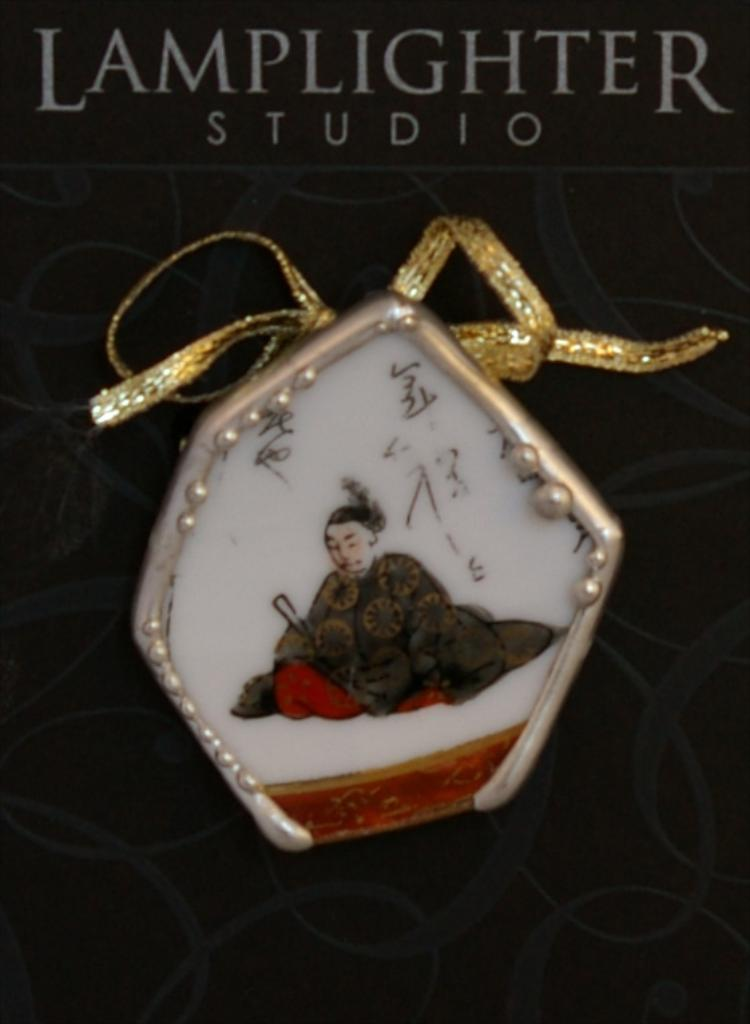Human-face: (325, 519, 369, 573)
